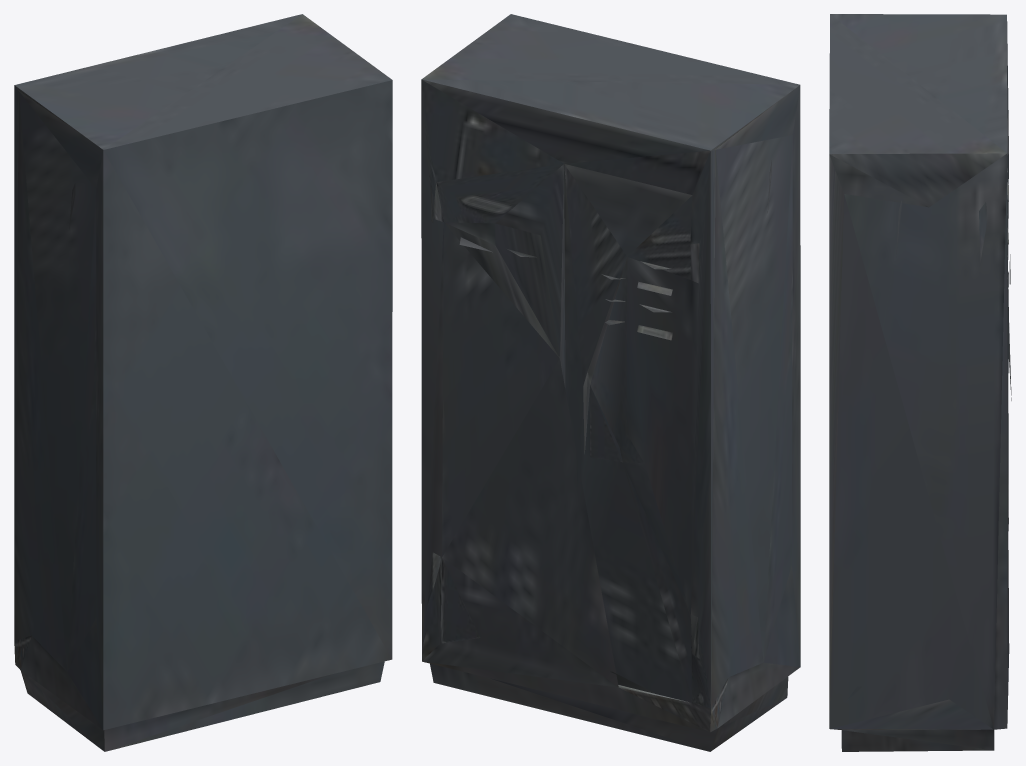
Rendered from mj-locker-crew.lod1.glb.
3 renders of one model, left to right at view 1: azimuth 30°, elevation 25°; view 2: azimuth 150°, elevation 25°; view 3: azimuth 270°, elevation 25°, orthographic.
Visible parts, largest first — view 1: mj-locker-crew; view 2: mj-locker-crew; view 3: mj-locker-crew.
Part boxes in pixels (x1,y1,x2,y2): mj-locker-crew: [14, 14, 392, 751]; mj-locker-crew: [421, 14, 800, 751]; mj-locker-crew: [829, 14, 1011, 751].
Bounding box in the file's own units: 0.897 × 1.8 × 0.4924.
1 material, 1 textured.
